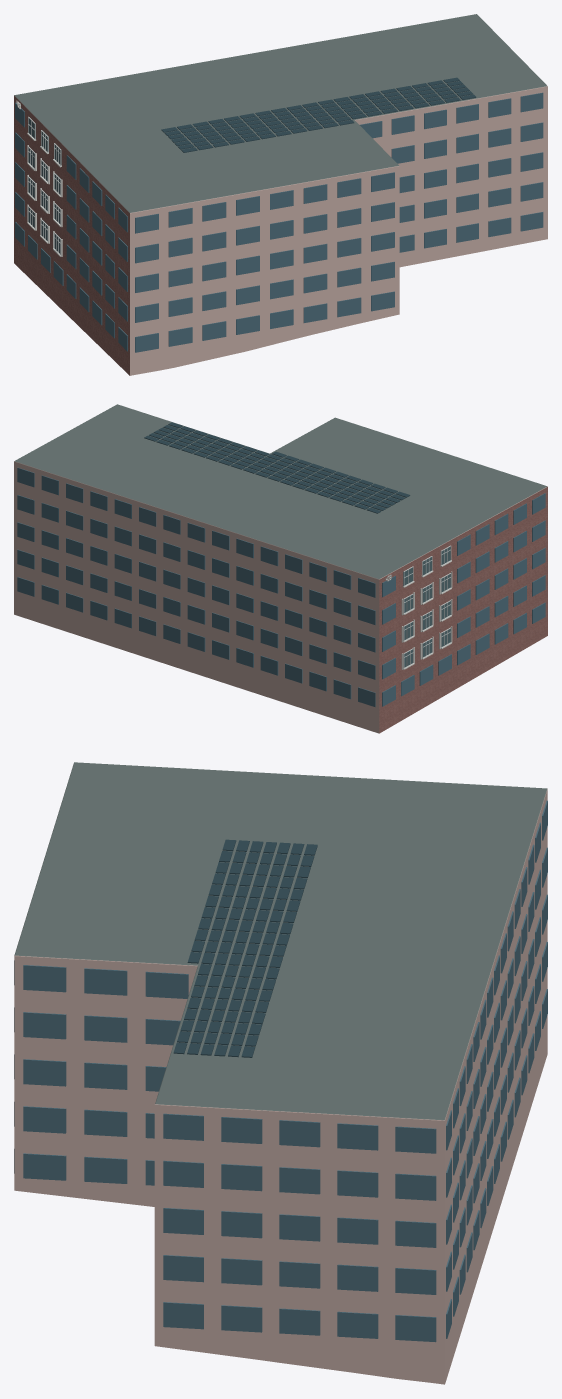
File: intact.glb
The picture shows the model from 3 angles, top to bottom: view 1: azimuth 30°, elevation 25°; view 2: azimuth 150°, elevation 25°; view 3: azimuth 270°, elevation 25°; orthographic projection. The views are drawn at different scales.
Visible parts, largest first — view 1: SM_468931867_Intact_00, SM_468931867_Intact_01, SM_468931867_Intact_02, SM_468931867_Intact_03, SM_468931867_Intact_04, SM_468931867_Intact_08; view 2: SM_468931867_Intact_00, SM_468931867_Intact_01, SM_468931867_Intact_02, SM_468931867_Intact_03, SM_468931867_Intact_04, SM_468931867_Intact_08, SM_468931867_Intact_05; view 3: SM_468931867_Intact_00, SM_468931867_Intact_01, SM_468931867_Intact_02.
Boxes of the visible parts, <box> form: SM_468931867_Intact_00: <box>14,14,547,375</box>; SM_468931867_Intact_01: <box>15,92,543,352</box>; SM_468931867_Intact_02: <box>161,77,476,152</box>; SM_468931867_Intact_03: <box>28,118,61,253</box>; SM_468931867_Intact_04: <box>28,116,61,255</box>; SM_468931867_Intact_08: <box>27,145,62,256</box>; SM_468931867_Intact_00: <box>14,404,547,733</box>; SM_468931867_Intact_01: <box>17,467,545,706</box>; SM_468931867_Intact_02: <box>144,422,410,513</box>; SM_468931867_Intact_03: <box>403,546,450,667</box>; SM_468931867_Intact_04: <box>403,545,451,668</box>; SM_468931867_Intact_08: <box>401,571,452,669</box>; SM_468931867_Intact_05: <box>406,548,447,666</box>; SM_468931867_Intact_00: <box>14,762,547,1384</box>; SM_468931867_Intact_01: <box>14,800,547,1342</box>; SM_468931867_Intact_02: <box>173,839,317,1057</box>.
Bounding box in the file's own units: 2.2 × 0.7638 × 1.39.
Materials: 9 (1 with a texture image).
